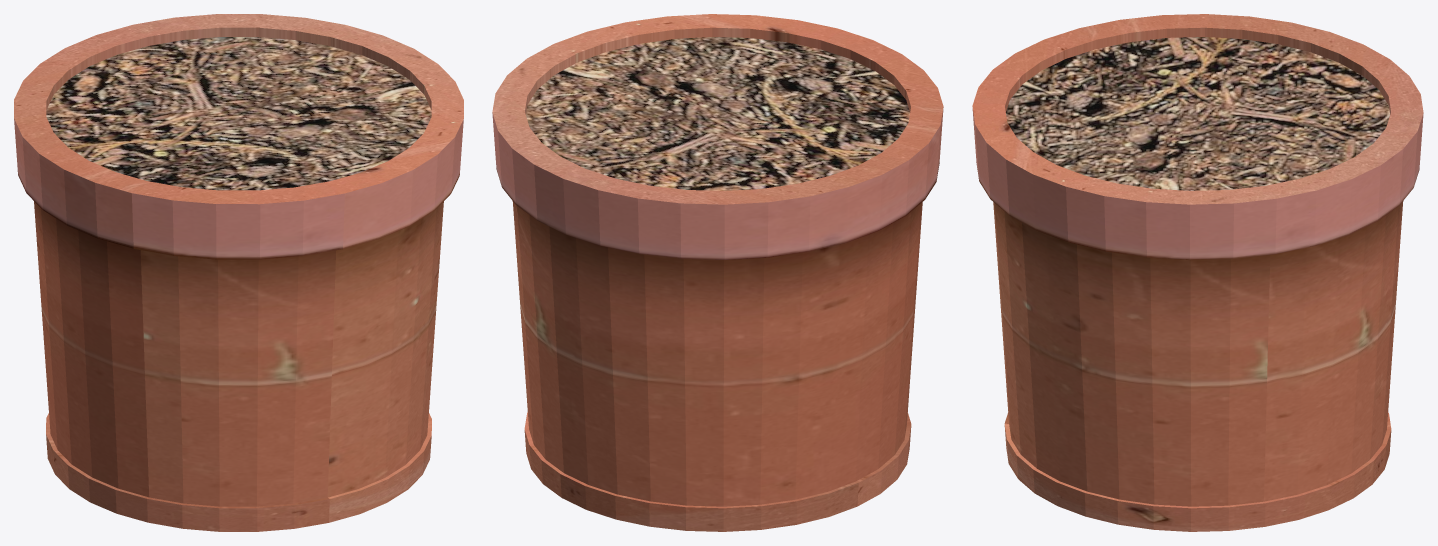
The model's file is Pot.glb.
The picture shows the model from 3 angles, left to right: view 1: azimuth 30°, elevation 25°; view 2: azimuth 150°, elevation 25°; view 3: azimuth 270°, elevation 25°; orthographic projection.
Visible parts, largest first — view 1: Cylinder; view 2: Cylinder; view 3: Cylinder.
Part boxes in pixels (x1=…): Cylinder: x1=14, y1=14, x2=463, y2=531; Cylinder: x1=492, y1=14, x2=943, y2=531; Cylinder: x1=972, y1=14, x2=1423, y2=531.
Size of the model in its own units: 0.3051 by 0.2549 by 0.3051.
2 materials, 2 textured.
